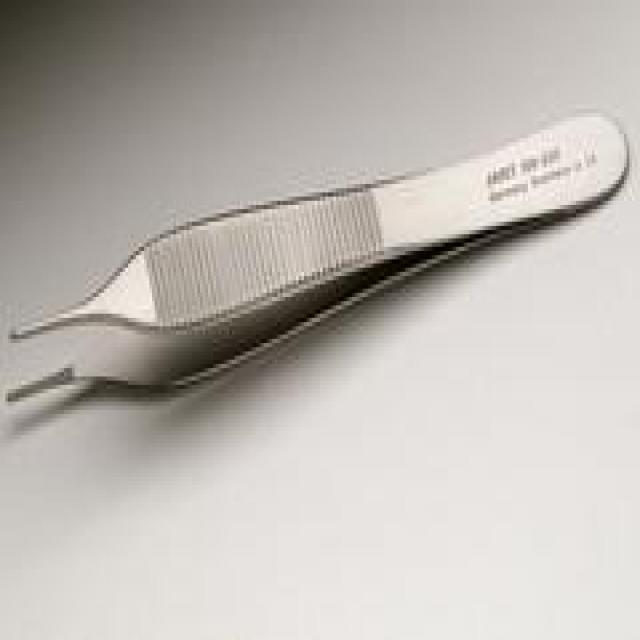Forceps: (5, 104, 632, 410)
